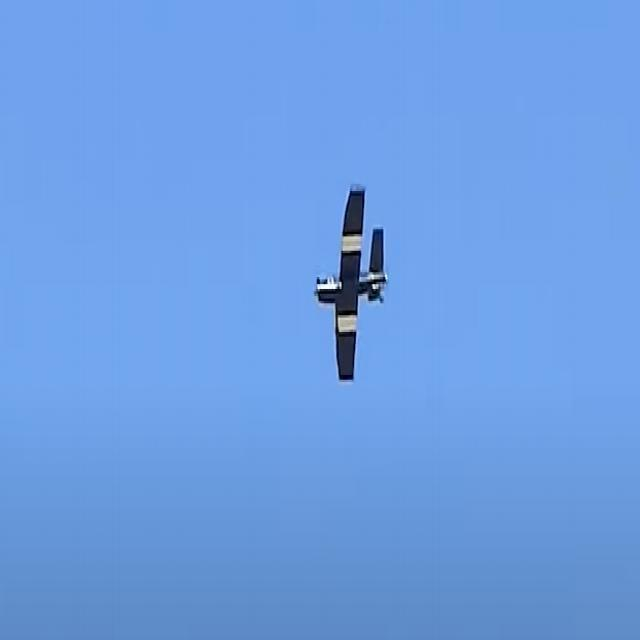Airplane: (307, 178, 392, 391)
